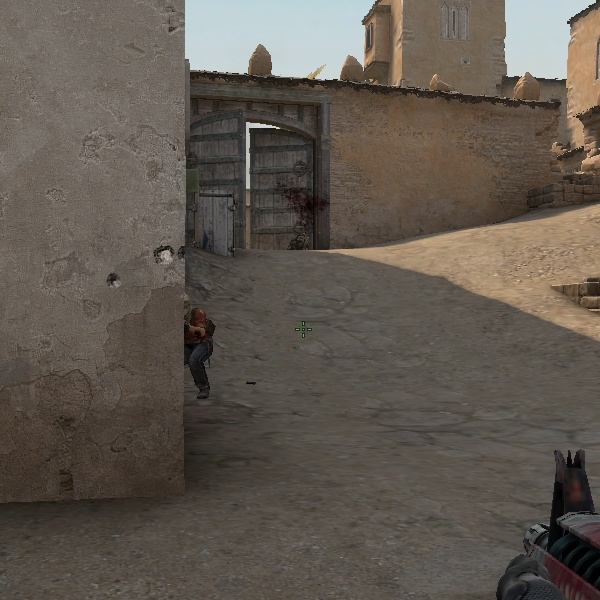t_body: (177, 294, 220, 398)
t_head: (182, 296, 196, 318)
